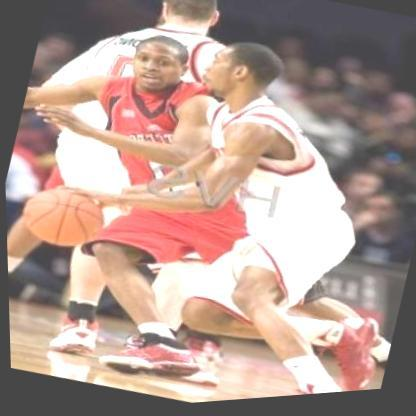basketball: (14, 178, 108, 258)
